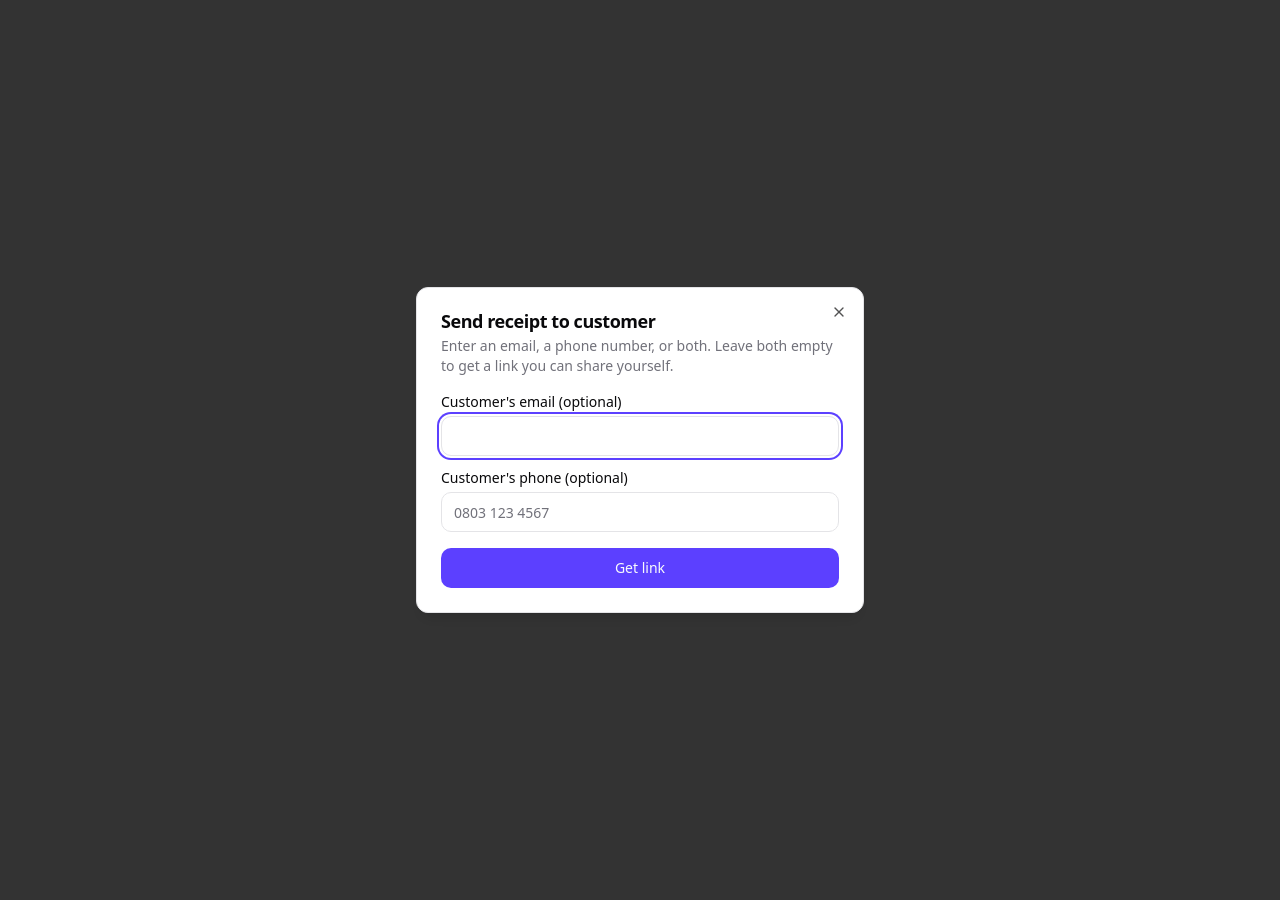
a receipt goes to the customer, and past the text allowance it says it went by email
The image size is (1280, 900).
expect the button "Get link" is shown: met, box [441, 548, 839, 588]
Type "ada@example.com" into the field labelled "Customer's email (optional)" at (640, 436), box [441, 416, 839, 456]
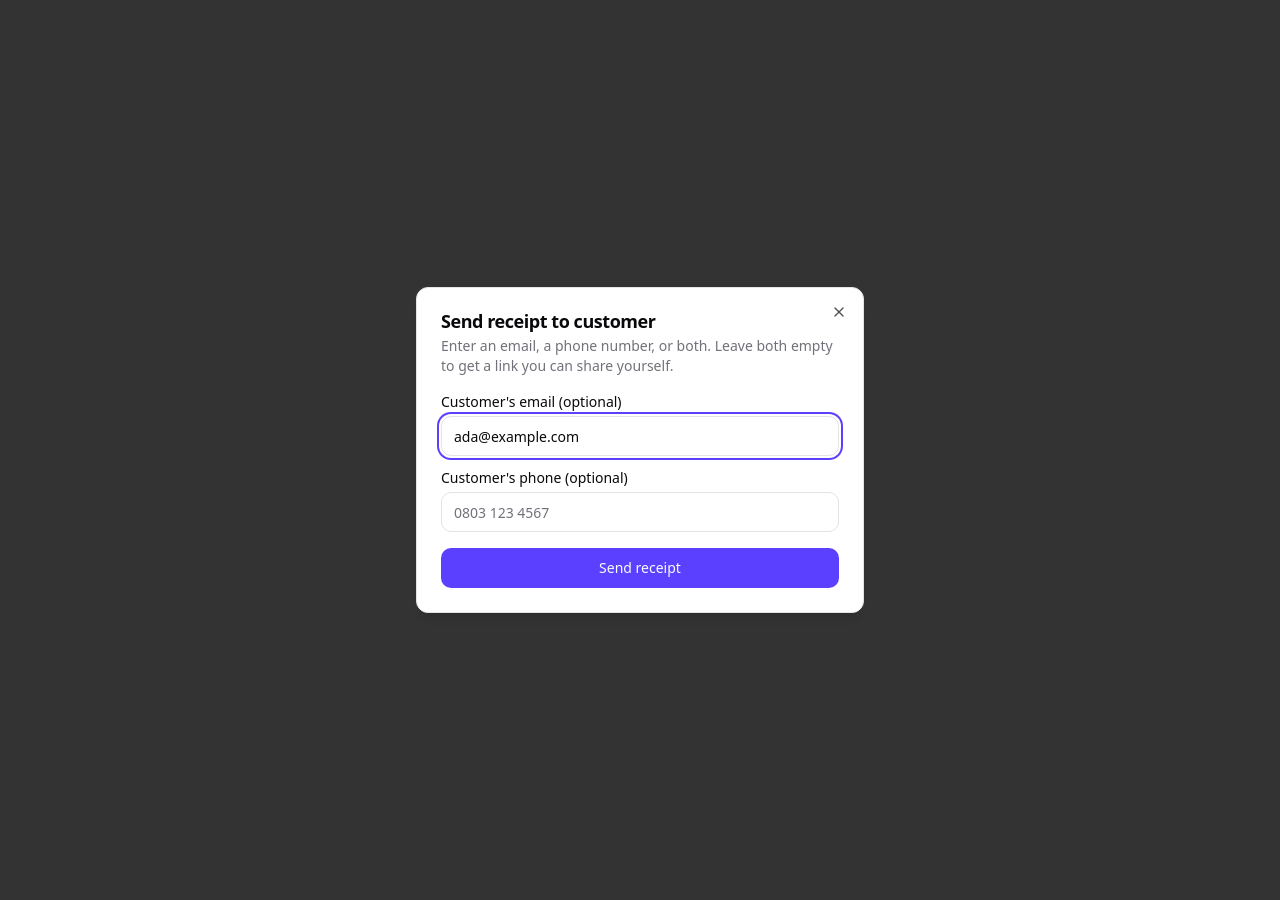
Type "123" into the field labelled "Customer's phone (optional)" at (640, 512), box [441, 492, 839, 532]
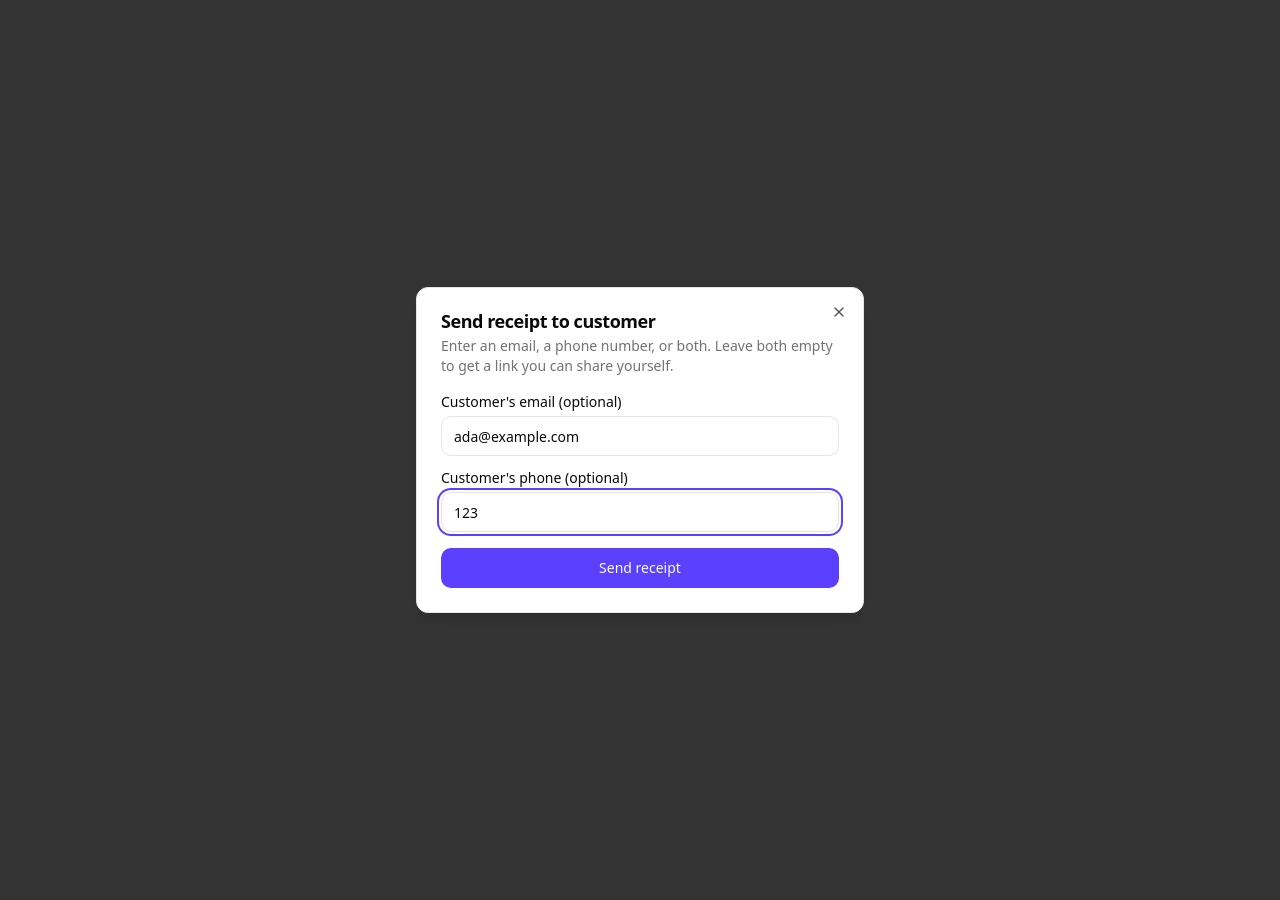
Click the button "Send receipt" at (640, 568), box [441, 548, 839, 588]
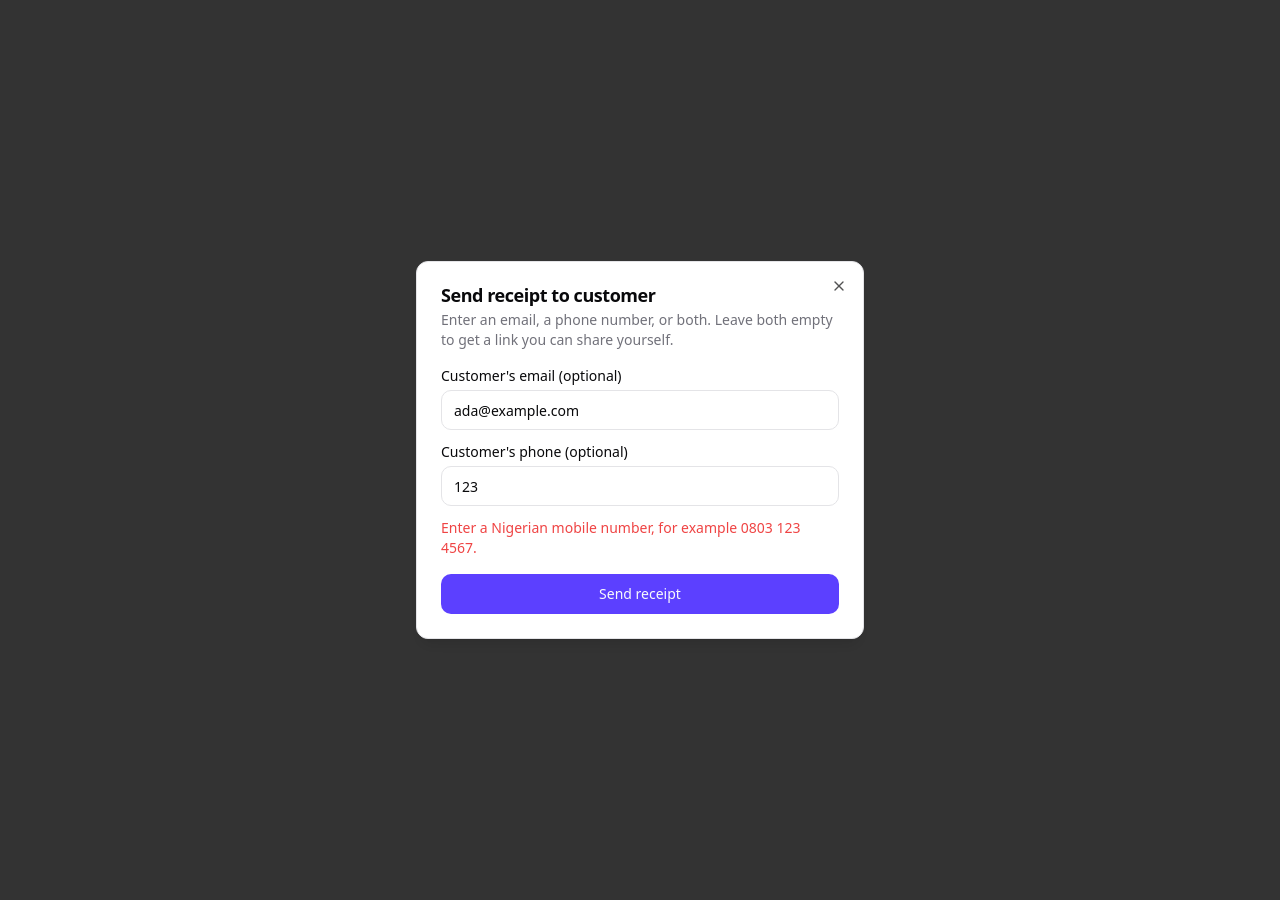
expect the message shows "Enter a Nigerian mobile number": met, box [441, 518, 800, 557]
Replace the text in the field labelled "Customer's phone (optional)" with "08031234567" at (640, 486), box [441, 466, 839, 506]
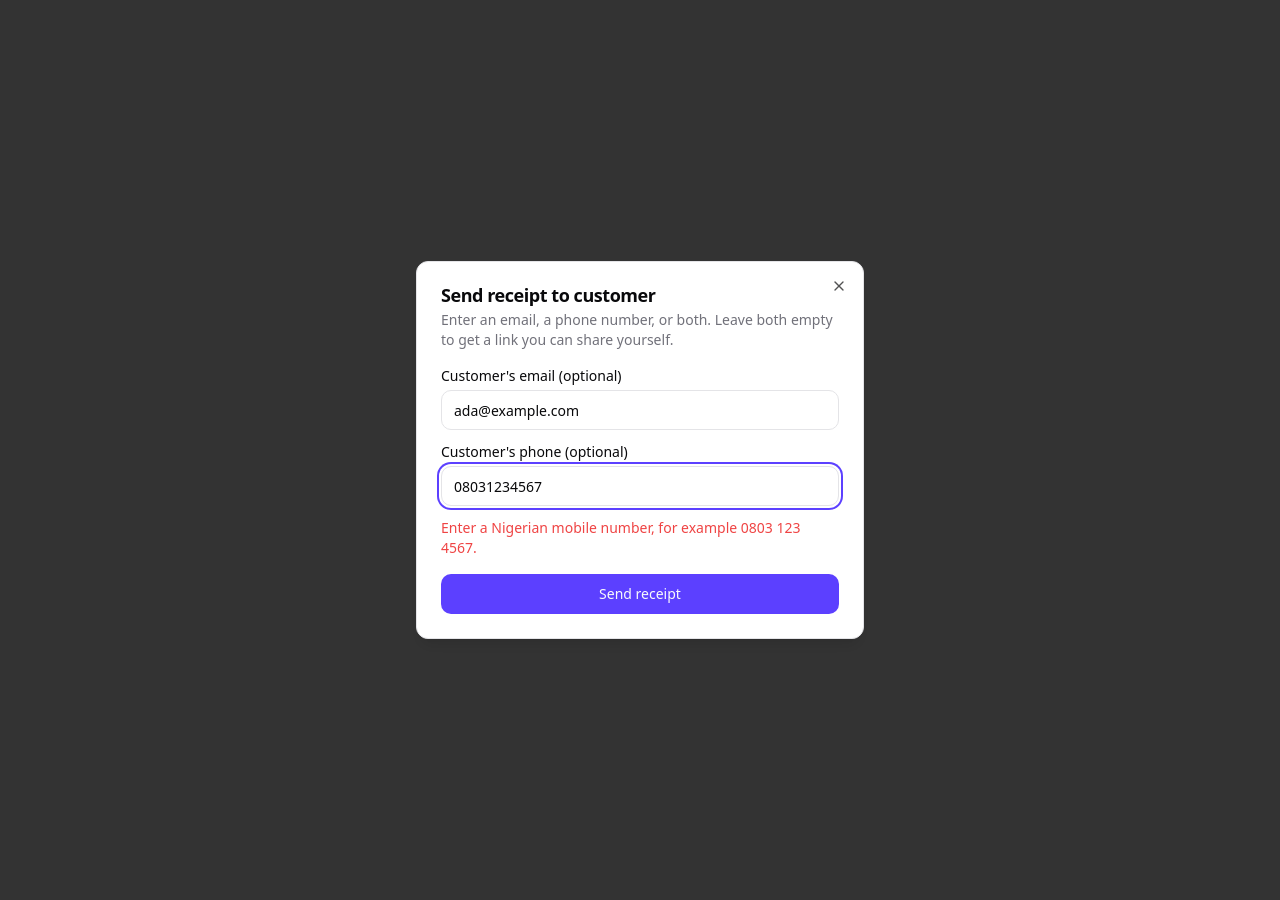
Click the button "Send receipt" at (640, 594), box [441, 574, 839, 614]
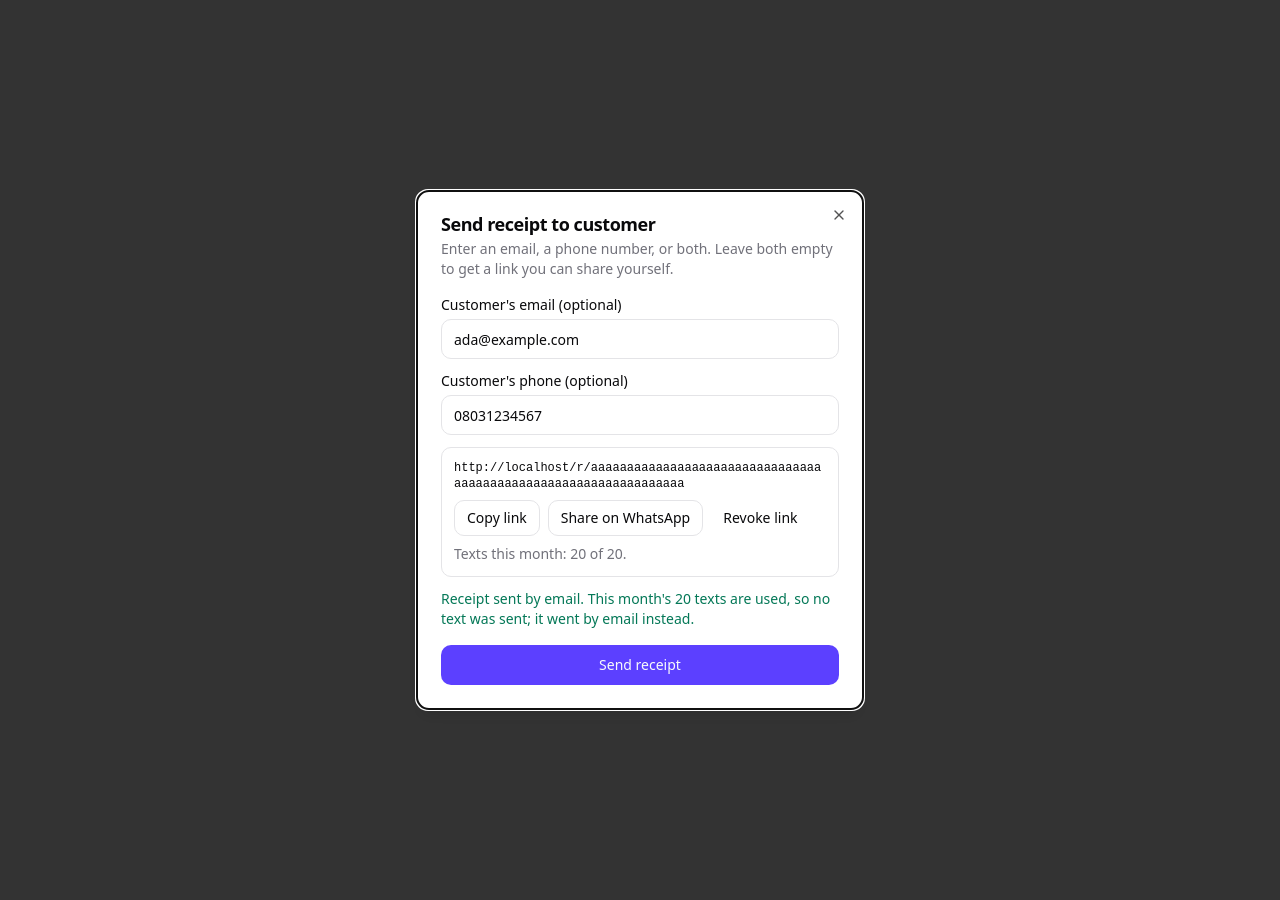
expect the text "This month's 20 texts are used, so no text was sent; it went by email instead" is shown: met, box [441, 589, 830, 628]
Click the button "Revoke link" at (760, 518), box [711, 500, 810, 536]
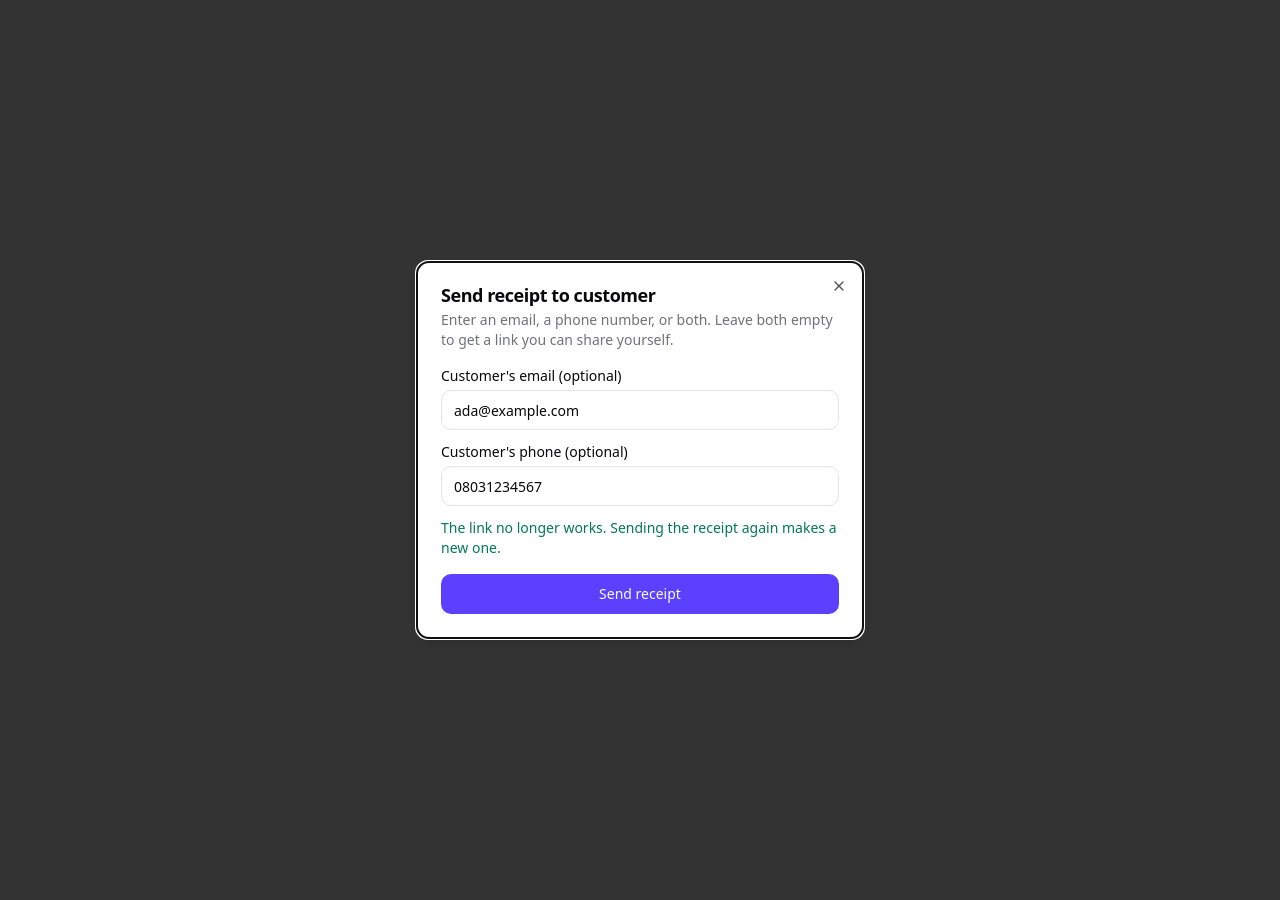
expect the text "The link no longer works. Sending the receipt again makes a new one." is shown: met, box [441, 518, 839, 558]
